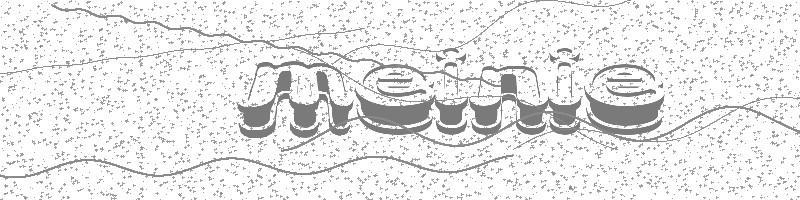e: (355, 59, 436, 139), (582, 61, 664, 134)
i: (548, 44, 584, 135), (435, 43, 469, 137)
m: (232, 56, 355, 139)
n: (471, 61, 548, 134)
